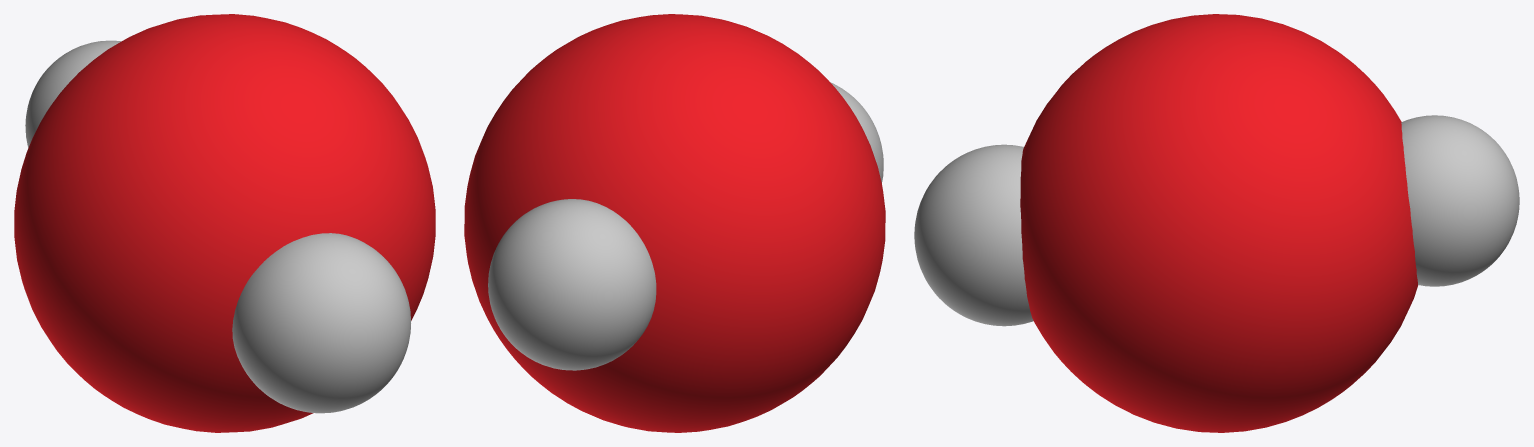
Rendered from oxygen3d.glb.
3 views of the same model, side by side, from view 1: azimuth 30°, elevation 25°; view 2: azimuth 150°, elevation 25°; view 3: azimuth 270°, elevation 25° (orthographic).
Visible parts, largest first — view 1: node_id5, node_id66, node_id71; view 2: node_id5, node_id71, node_id66; view 3: node_id5, node_id66, node_id71.
Boxes of the visible parts, box(x1,y1,x2,y2) form: node_id5: box(14, 14, 435, 432); node_id66: box(232, 233, 410, 413); node_id71: box(25, 40, 121, 147); node_id5: box(464, 14, 885, 432); node_id71: box(488, 199, 656, 370); node_id66: box(830, 82, 883, 182); node_id5: box(1020, 14, 1418, 432); node_id66: box(914, 144, 1033, 326); node_id71: box(1401, 115, 1519, 286).
Size of the model in its own units: 0.4702 by 0.4656 by 0.674.
3 materials, 3 textured.
